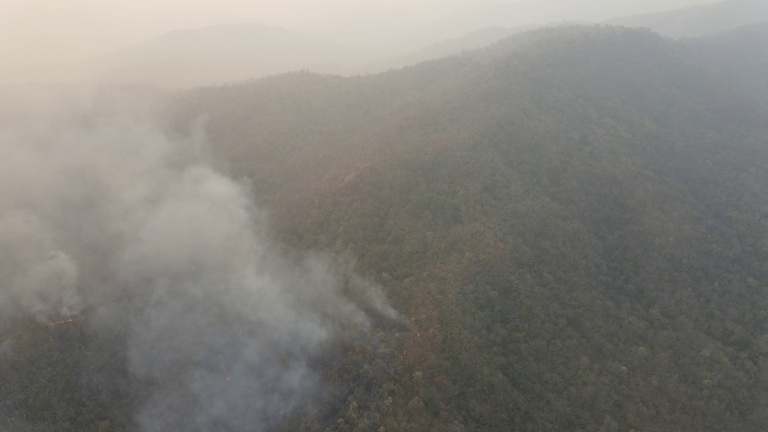fire: (47, 315, 79, 344), (414, 330, 420, 344)
smoke: (1, 21, 419, 431)
